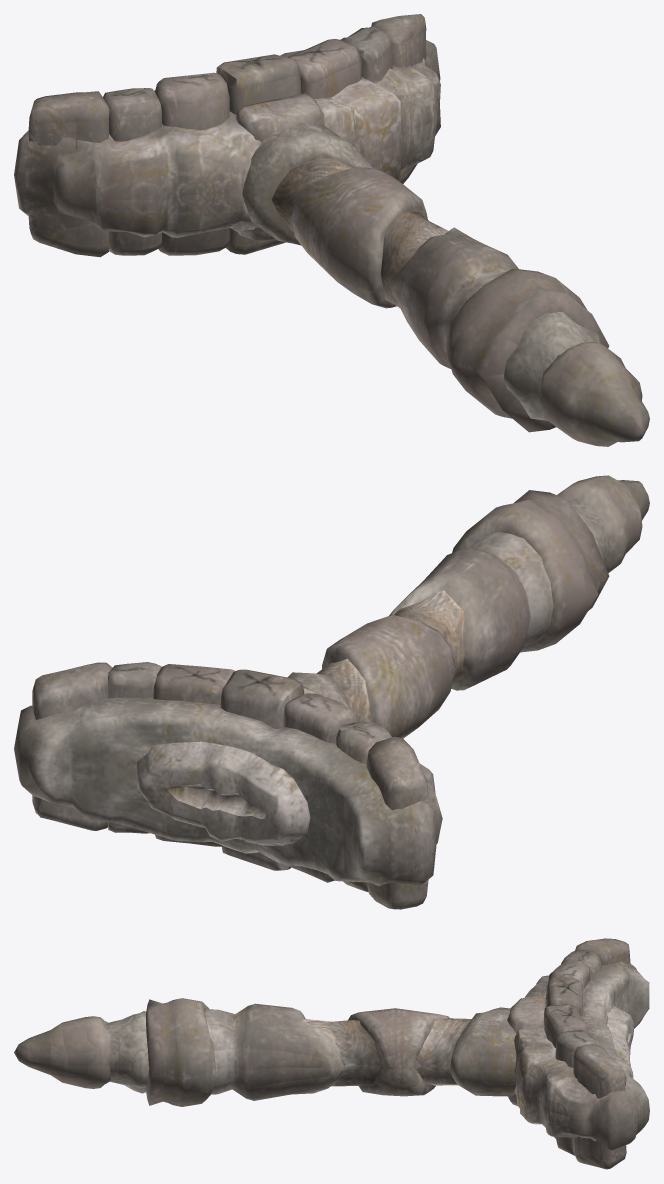
The model's file is codedsword.fbx.
3 renders of one model, top to bottom at view 1: azimuth 30°, elevation 25°; view 2: azimuth 150°, elevation 25°; view 3: azimuth 270°, elevation 25°, orthographic. The views are drawn at different scales.
Visible parts, largest first — view 1: WP_A_0222; view 2: WP_A_0222; view 3: WP_A_0222.
Part boxes in pixels (x1=…): WP_A_0222: x1=14, y1=14, x2=649, y2=446; WP_A_0222: x1=14, y1=475, x2=649, y2=909; WP_A_0222: x1=14, y1=938, x2=649, y2=1169.
Bounding box in the file's own units: 18.25 × 7.53 × 33.2.
1 material, 1 textured.
